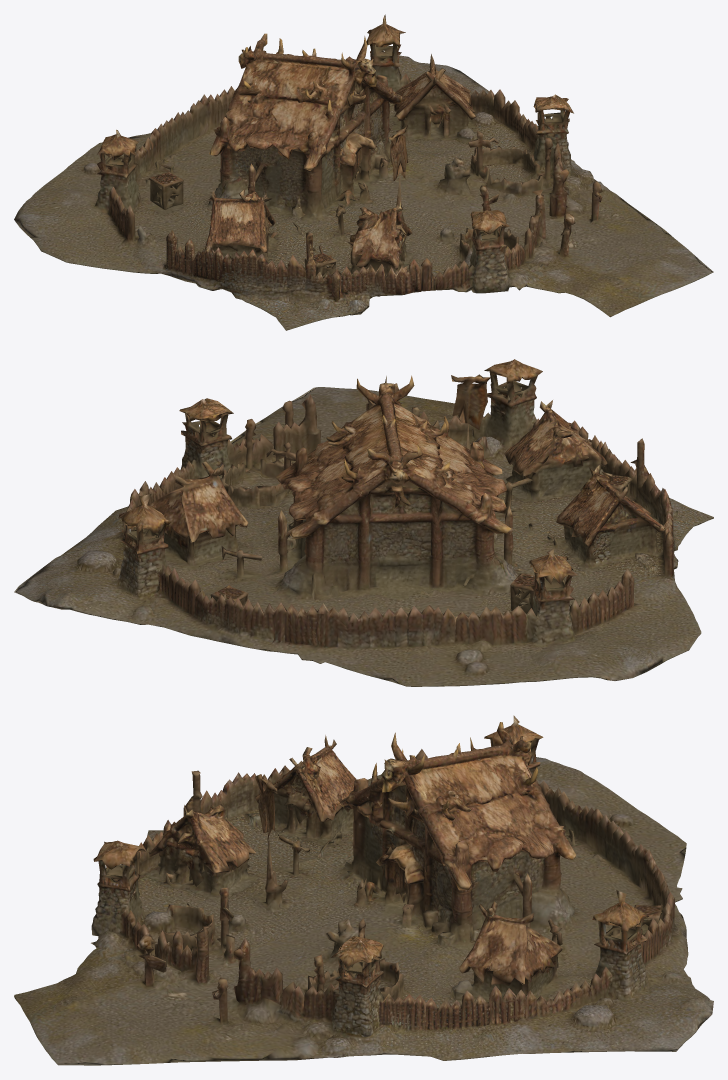
Rendered from Варвары.glb.
3 renders of one model, top to bottom at view 1: azimuth 30°, elevation 25°; view 2: azimuth 150°, elevation 25°; view 3: azimuth 270°, elevation 25°, orthographic. The views are drawn at different scales.
Visible parts, largest first — view 1: tripo_node_670d9622-da66-4c91-a4a9-89a4f4cf5241; view 2: tripo_node_670d9622-da66-4c91-a4a9-89a4f4cf5241; view 3: tripo_node_670d9622-da66-4c91-a4a9-89a4f4cf5241.
Boxes of the visible parts, x1,y1,x2,y2 form: tripo_node_670d9622-da66-4c91-a4a9-89a4f4cf5241: (14, 14, 713, 330); tripo_node_670d9622-da66-4c91-a4a9-89a4f4cf5241: (14, 359, 713, 686); tripo_node_670d9622-da66-4c91-a4a9-89a4f4cf5241: (14, 715, 713, 1065).
Size of the model in its own units: 0.9933 by 0.3214 by 1.
Materials: 1 (1 with a texture image).
